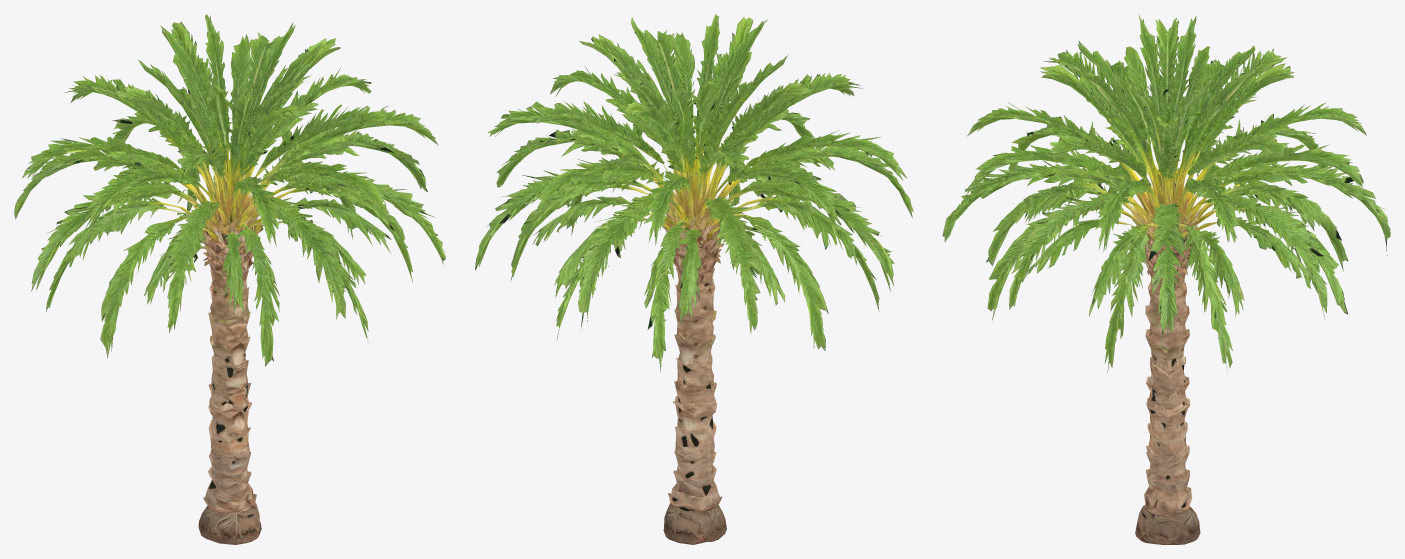
Rendered from palm.glb.
The picture shows the model from 3 angles, left to right: view 1: azimuth 30°, elevation 25°; view 2: azimuth 150°, elevation 25°; view 3: azimuth 270°, elevation 25°; orthographic projection.
Parts seen in each view (by area): view 1: Mesh_0; view 2: Mesh_0; view 3: Mesh_0.
Boxes of the visible parts, <box> form: Mesh_0: <box>14,14,445,544</box>; Mesh_0: <box>475,14,913,544</box>; Mesh_0: <box>942,15,1390,544</box>.
Bounding box in the file's own units: 1.59 × 1.87 × 1.58.
1 material, 1 textured.
